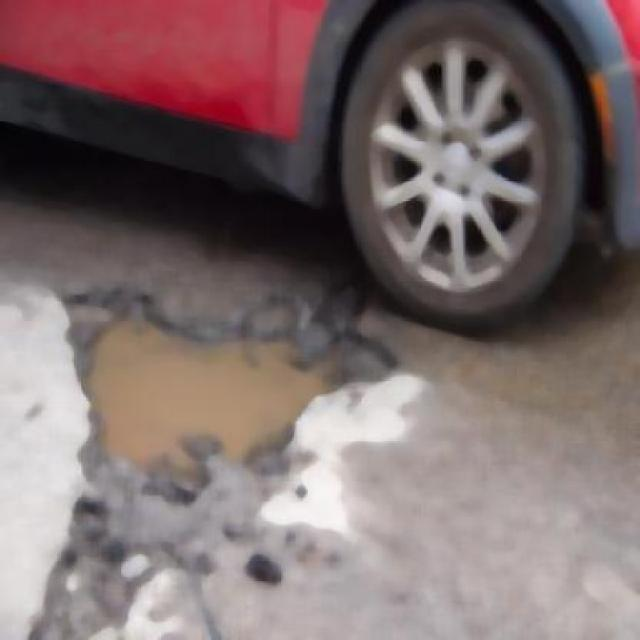Pothole: (86, 285, 354, 470)
